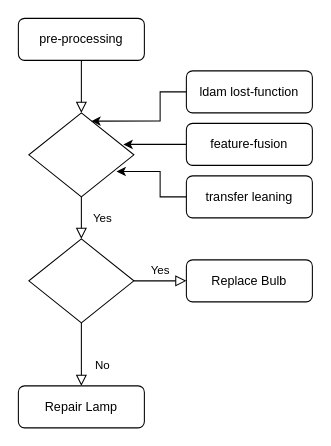
Image size: 331x446. Some labels were removed from this diagram. The shapes that lost their labels are listed below. From the top down, each one's centre as x and y in pixels, then its label:
the point at 81,154: cnn
the point at 81,280: Bulb burned out?
